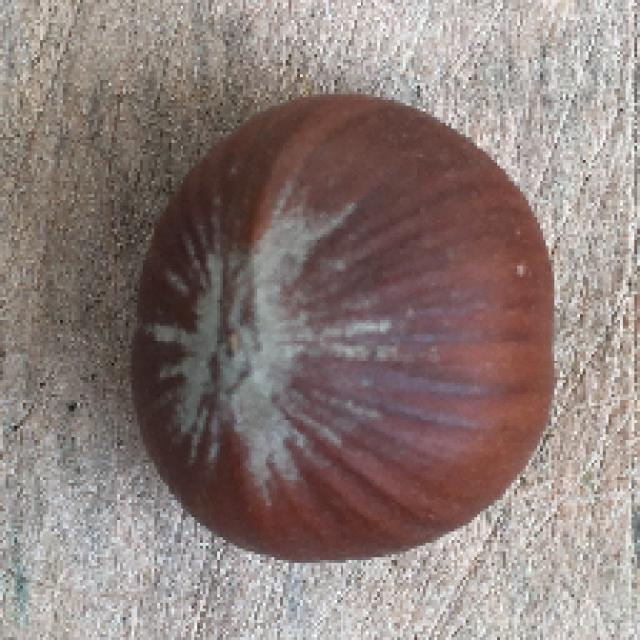qualityHazelnut: (118, 78, 552, 572)
